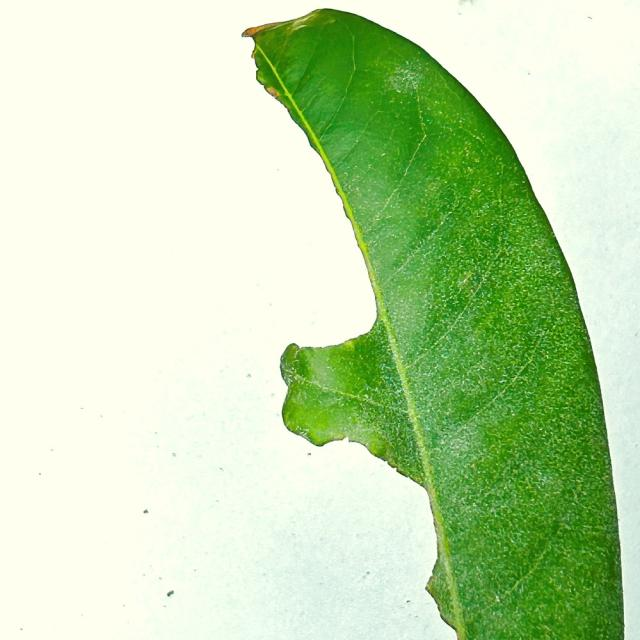Deficiency Leaf: (186, 37, 374, 379), (273, 437, 451, 639)
Lychee: (243, 9, 623, 639)
